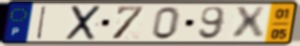0: (150, 5, 183, 41)
7: (112, 5, 145, 41)
9: (198, 5, 228, 40)
I: (34, 5, 49, 41)
X: (64, 4, 104, 42), (231, 5, 268, 41)
